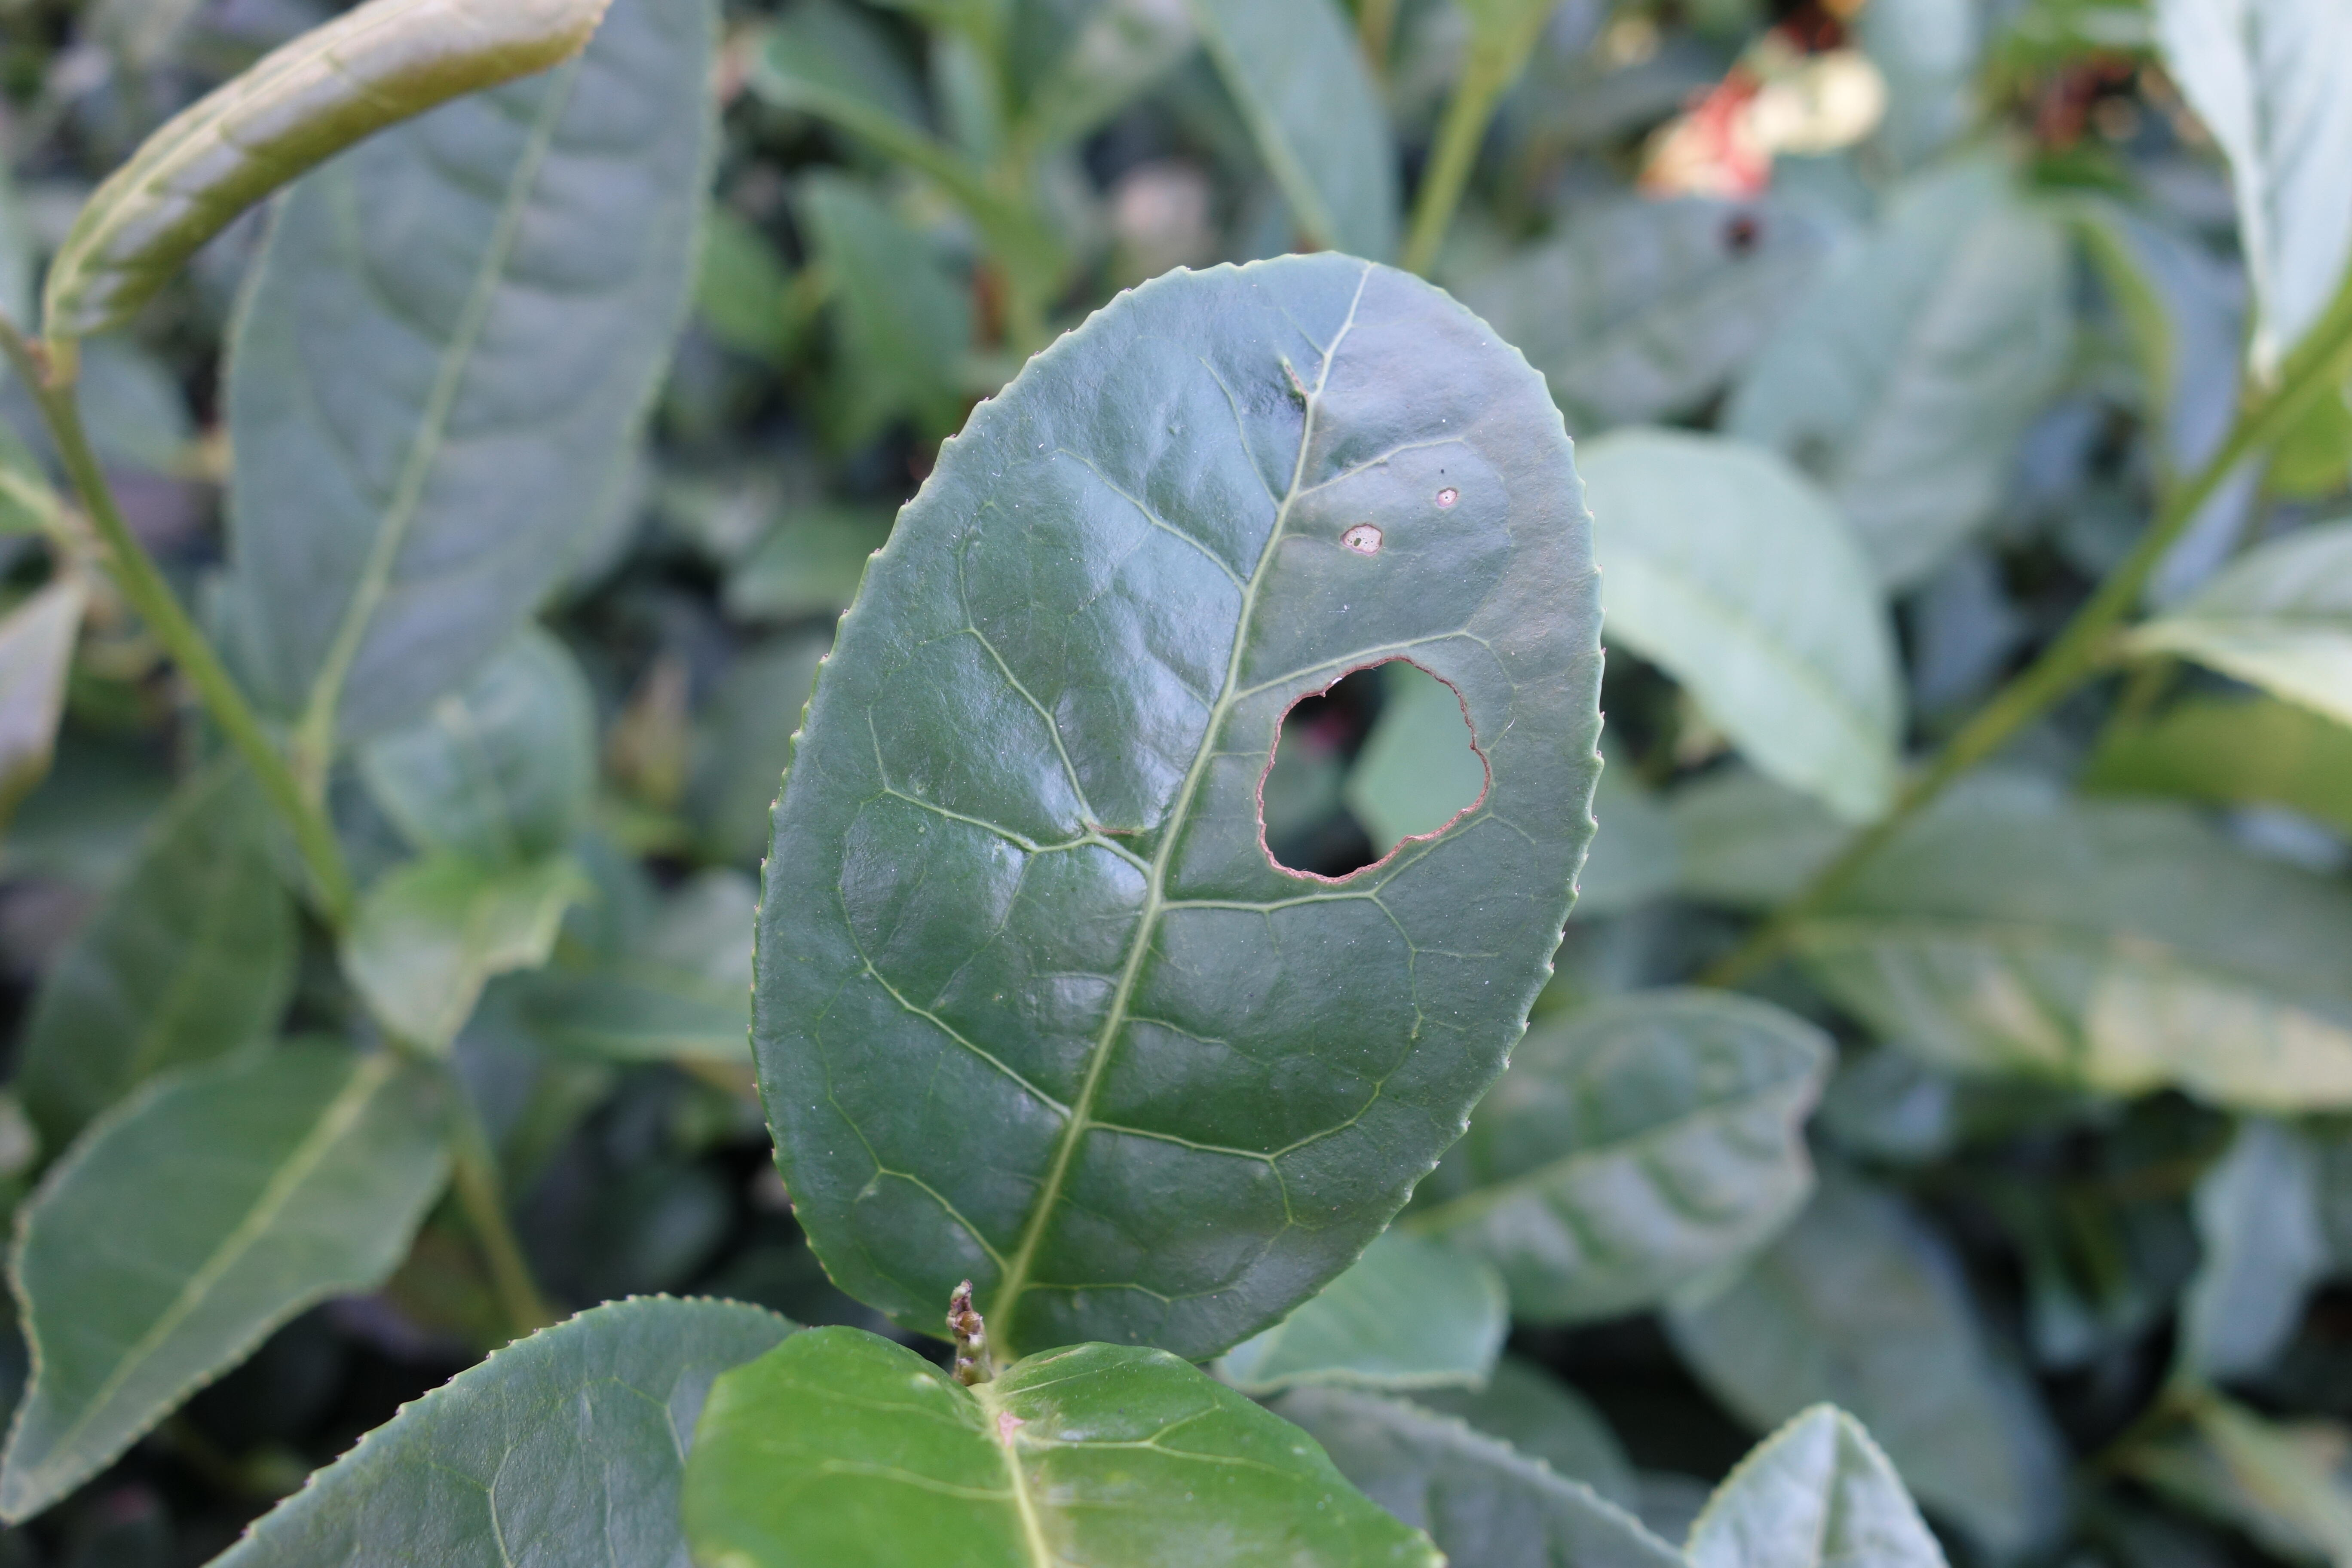chihuo_low: (752, 245, 1608, 1368)
